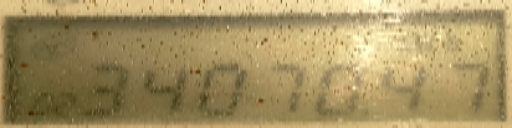0: (316, 53, 362, 128), (198, 53, 244, 128)
3: (87, 53, 133, 128)
4: (382, 53, 428, 128), (143, 53, 189, 128)
7: (443, 41, 499, 128), (263, 53, 309, 128)
d: (358, 104, 378, 120)
